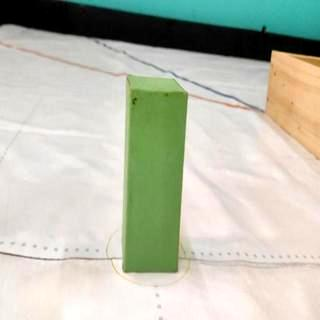greenbox: (124, 72, 188, 274)
